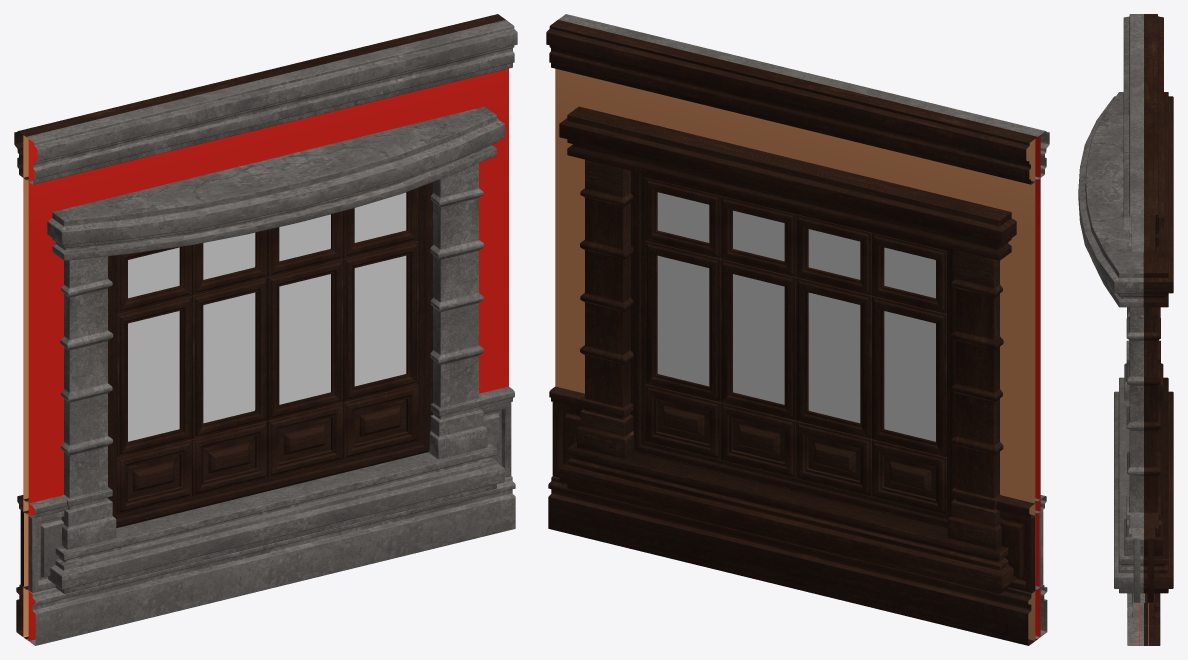
The model's file is SK7 WINDOW 2.fbx.
3 views of the same model, side by side, from view 1: azimuth 30°, elevation 25°; view 2: azimuth 150°, elevation 25°; view 3: azimuth 270°, elevation 25° (orthographic). The views are drawn at different scales.
Visible parts, largest first — view 1: SK7 WINDOW 2; view 2: SK7 WINDOW 2; view 3: SK7 WINDOW 2.
Part boxes in pixels (box(x1,y1,x2,y2)): SK7 WINDOW 2: box(14, 14, 517, 645); SK7 WINDOW 2: box(546, 14, 1049, 645); SK7 WINDOW 2: box(1078, 14, 1173, 645).
Size of the model in its own units: 400 by 400 by 79.97.
